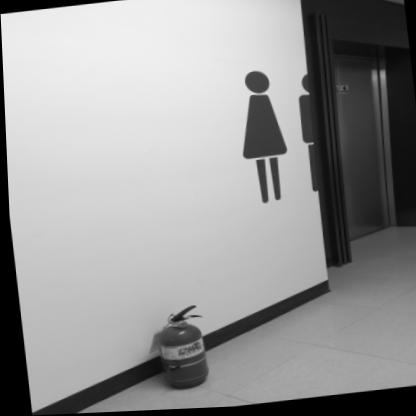FE: (149, 307, 206, 393)
